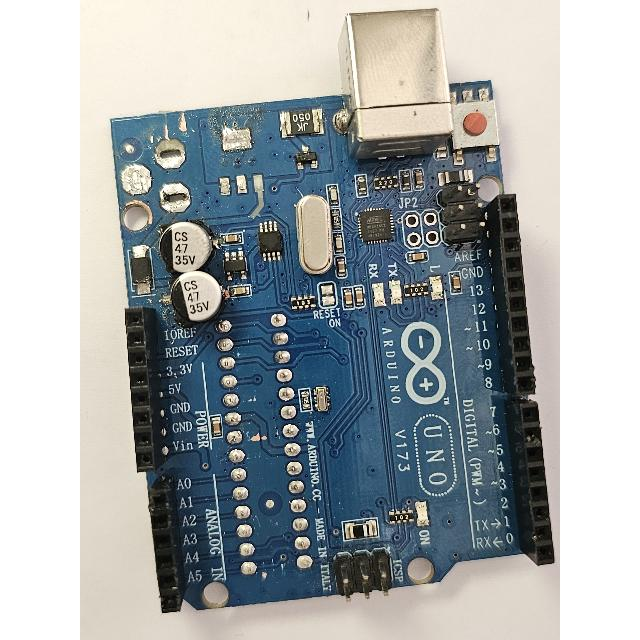missing_atmega: (214, 306, 319, 589)
missing_eps: (137, 125, 201, 220)
missing_voltage_reg: (211, 112, 273, 208)
